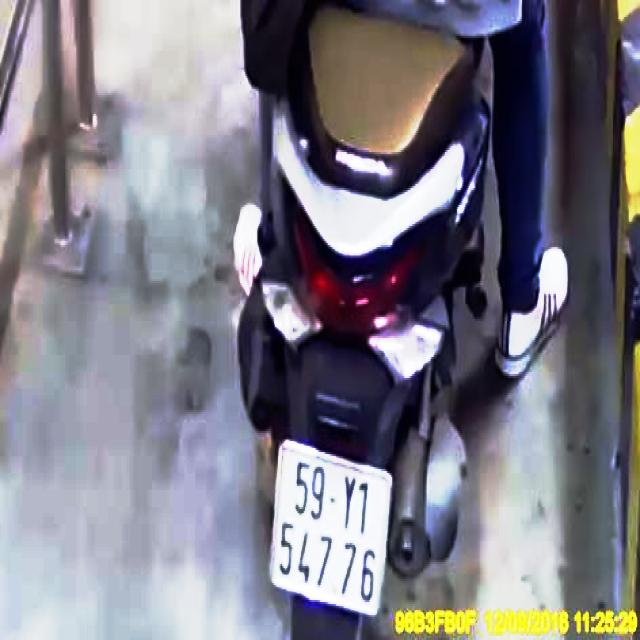license_plate: (270, 442, 393, 617)
